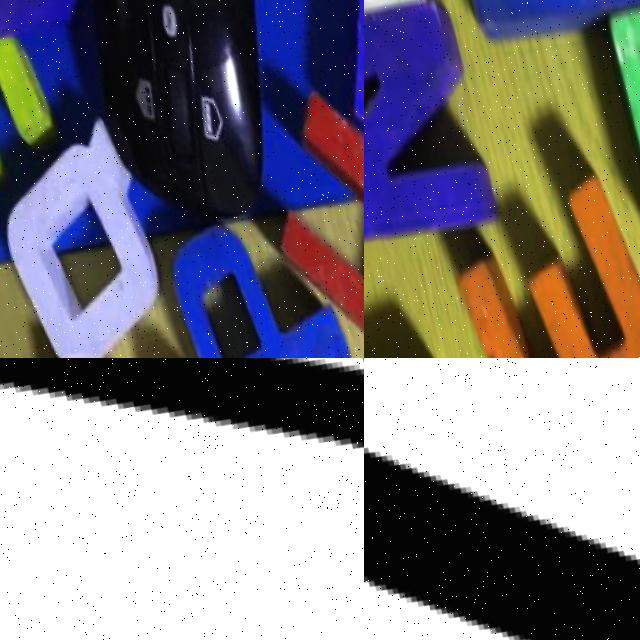E: (433, 145, 640, 358)
L: (0, 358, 364, 599)
N: (364, 0, 505, 259)
P: (151, 183, 364, 358), (445, 0, 640, 82)
Q: (0, 106, 181, 358)
V: (364, 358, 640, 640), (244, 44, 364, 358)
